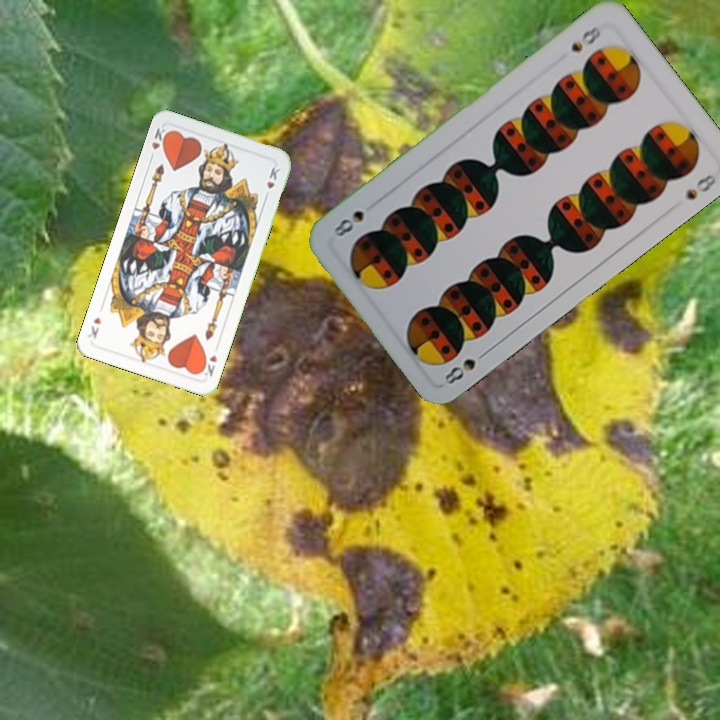HK: (146, 123, 172, 163), (197, 351, 220, 381)
S8: (440, 345, 492, 387), (566, 21, 604, 55)
